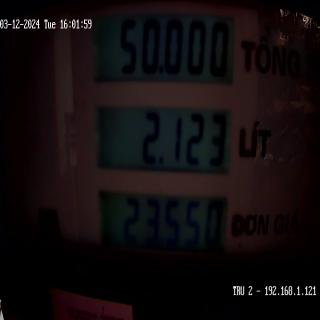screen: (88, 8, 241, 273)
